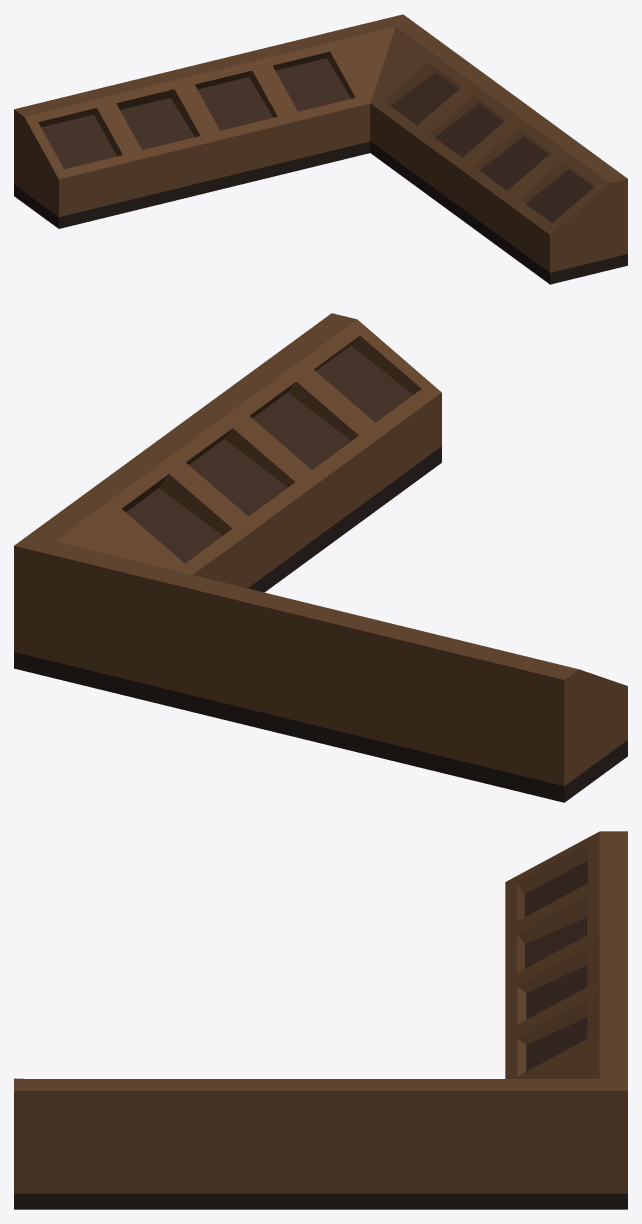
File: backAngle1.fbx
The picture shows the model from 3 angles, top to bottom: view 1: azimuth 30°, elevation 25°; view 2: azimuth 150°, elevation 25°; view 3: azimuth 270°, elevation 25°; orthographic projection. The views are drawn at different scales.
Parts seen in each view (by area): view 1: Cube.018; view 2: Cube.018; view 3: Cube.018.
Boxes of the visible parts, <box> form: Cube.018: <box>14,14,627,284</box>; Cube.018: <box>14,313,627,802</box>; Cube.018: <box>14,831,627,1209</box>.
Bounding box in the file's own units: 500 × 107 × 500.
